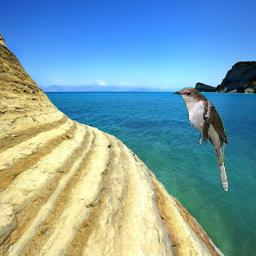Cuckoo: (172, 87, 229, 192)
